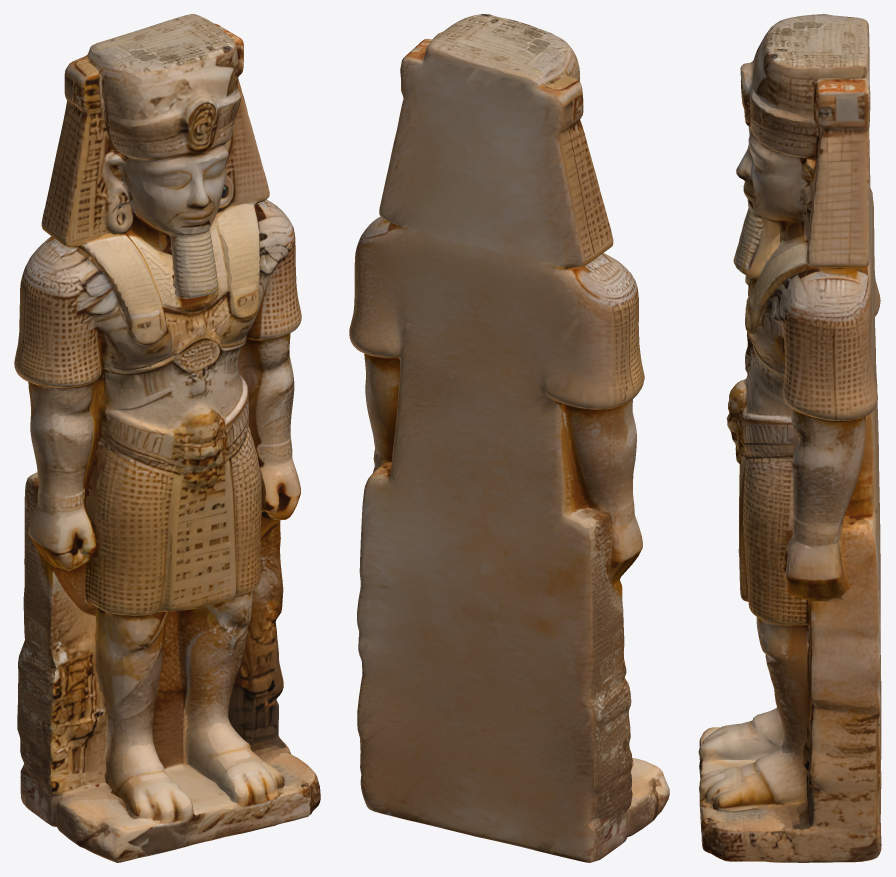
File: ancient-guardian-statue.glb
The picture shows the model from 3 angles, left to right: view 1: azimuth 30°, elevation 25°; view 2: azimuth 150°, elevation 25°; view 3: azimuth 270°, elevation 25°; orthographic projection. The views are drawn at different scales.
Visible parts, largest first — view 1: textured_mesh; view 2: textured_mesh; view 3: textured_mesh.
Part boxes in pixels (x1=…): textured_mesh: x1=14, y1=14, x2=320, y2=862; textured_mesh: x1=349, y1=14, x2=669, y2=862; textured_mesh: x1=698, y1=14, x2=881, y2=862.
Bounding box in the file's own units: 0.755 × 1.99 × 0.4283.
Materials: 1 (1 with a texture image).
